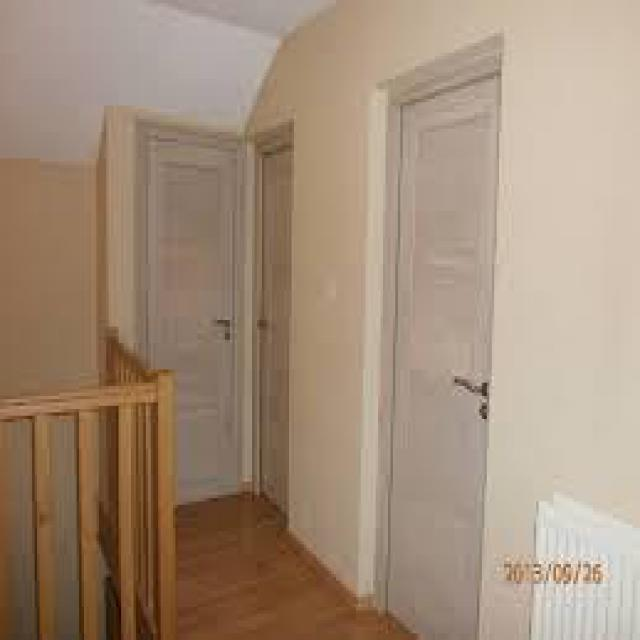close: (373, 33, 517, 637), (116, 99, 250, 518), (250, 112, 312, 538)
